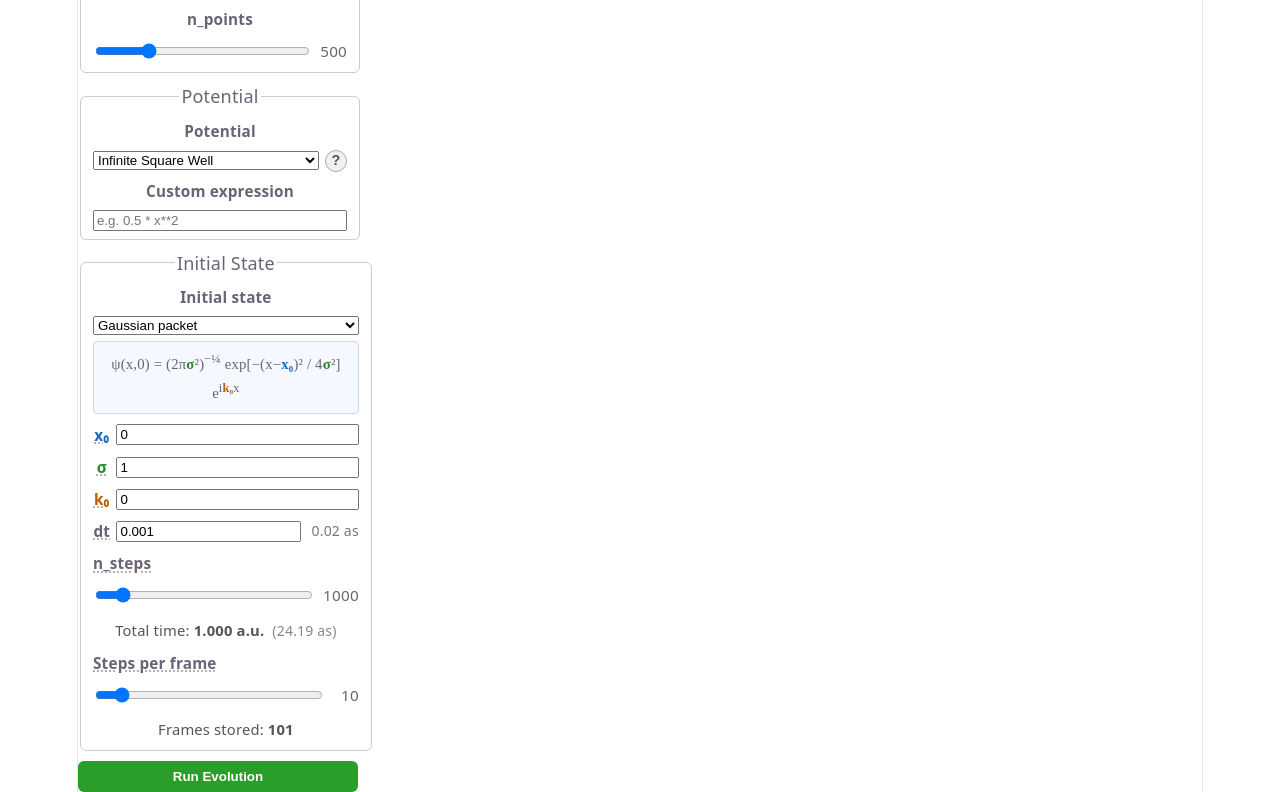
Test case: Spec 16 — ControlPanel save_every › frames-stored updates when save_every slider moves
(page scrolled)
Set the slider labelled "Steps per frame" to "100" at x=315, y=695, box [95,687,323,703]
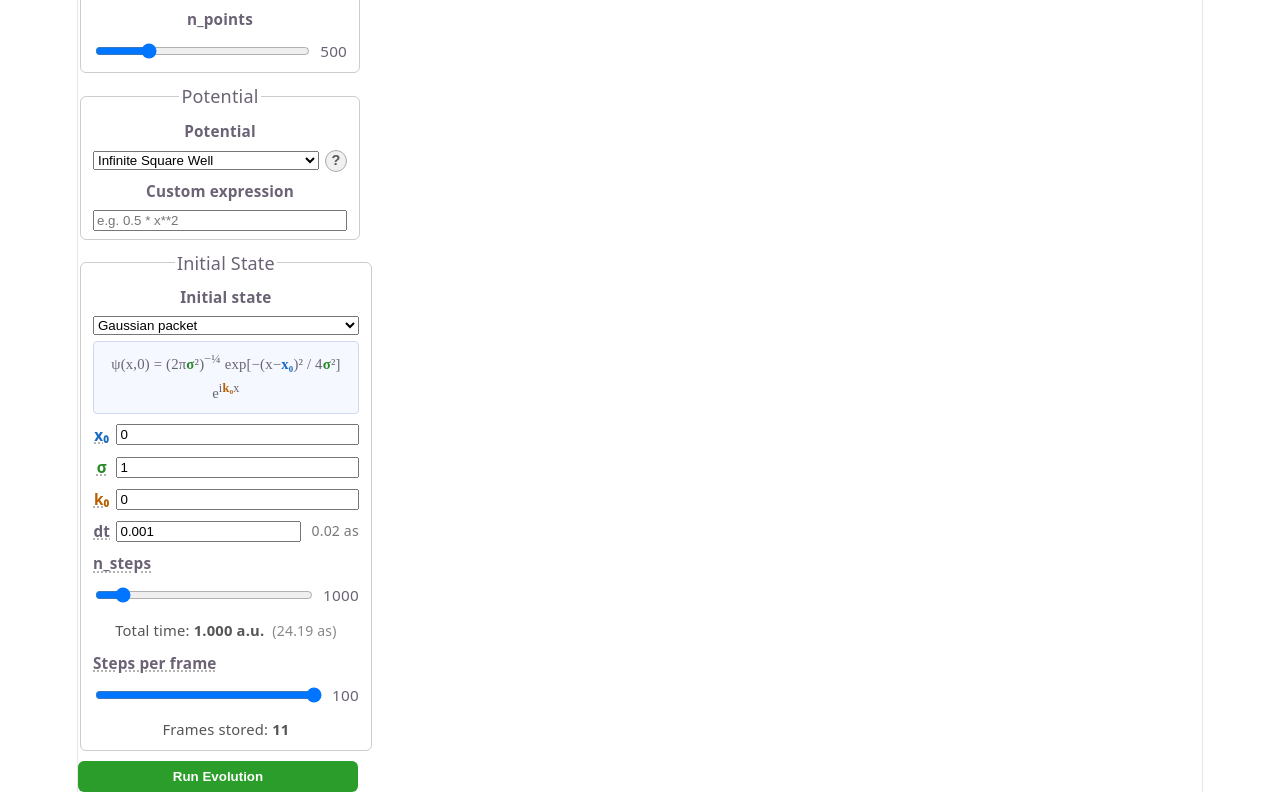
expect the text with test id "frames-stored" reads "11": met, box [272,719,289,739]
